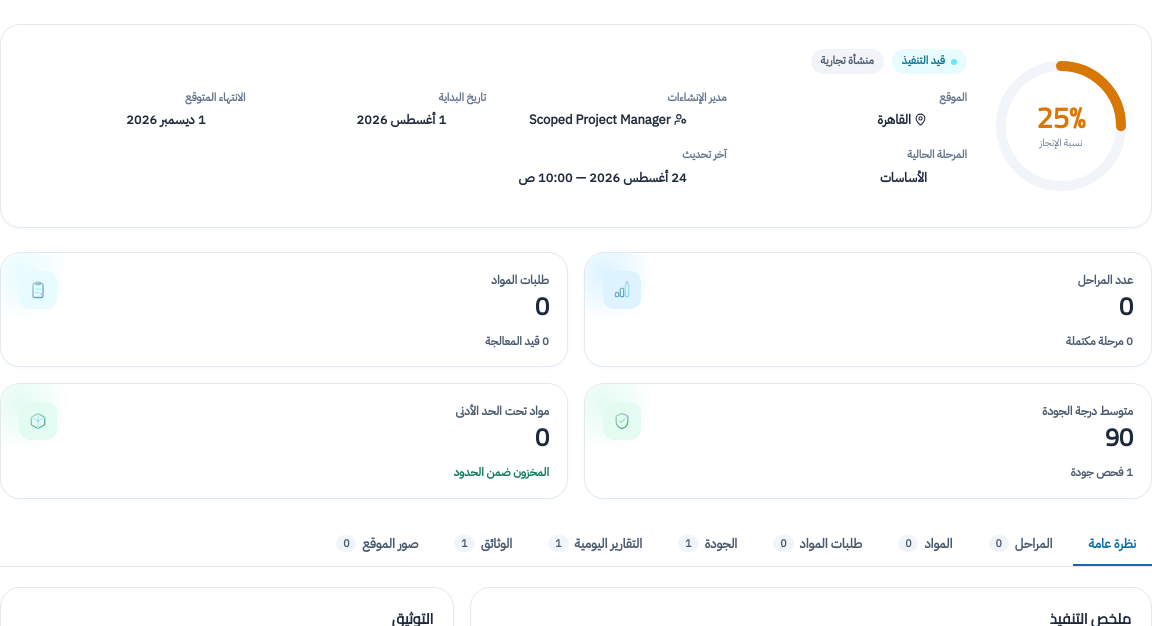
Test case: Construction Manager project detail › renders actor names delivered by scoped Construction resources
The image size is (1152, 626).
Expected: the text "Scoped Project Manager" is shown, top-left (506, 109), bottom-right (686, 131)
Click the tab "الجودة 1" at (708, 544), box top-left (662, 522), bottom-right (753, 566)
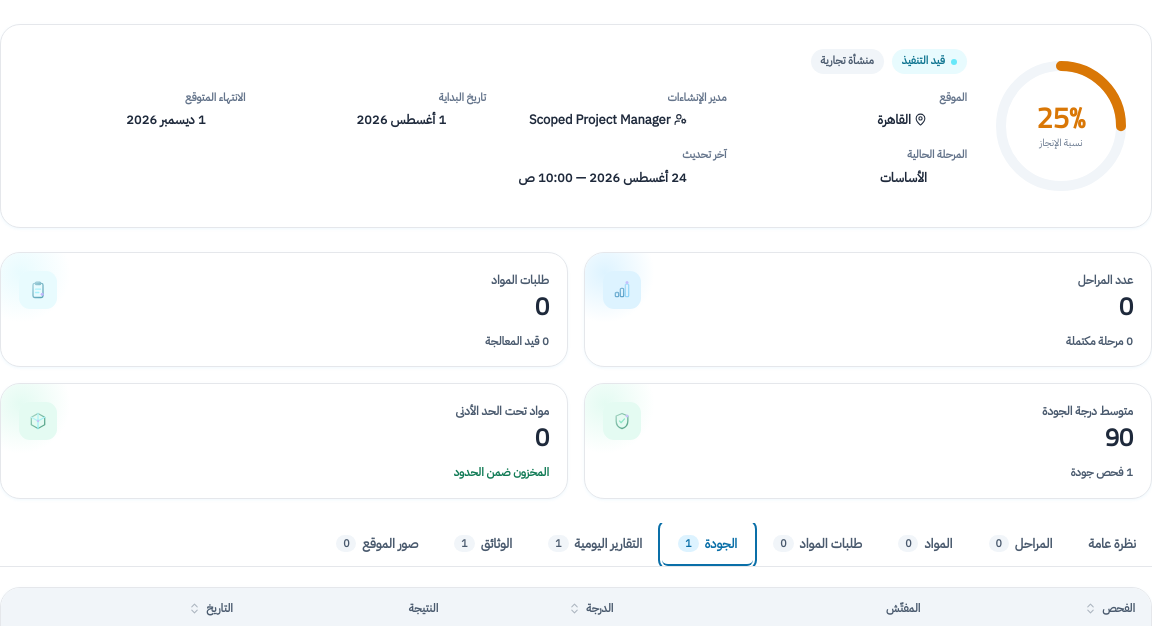
Click the tab "التقارير اليومية 1" at (595, 544), box top-left (532, 522), bottom-right (658, 566)
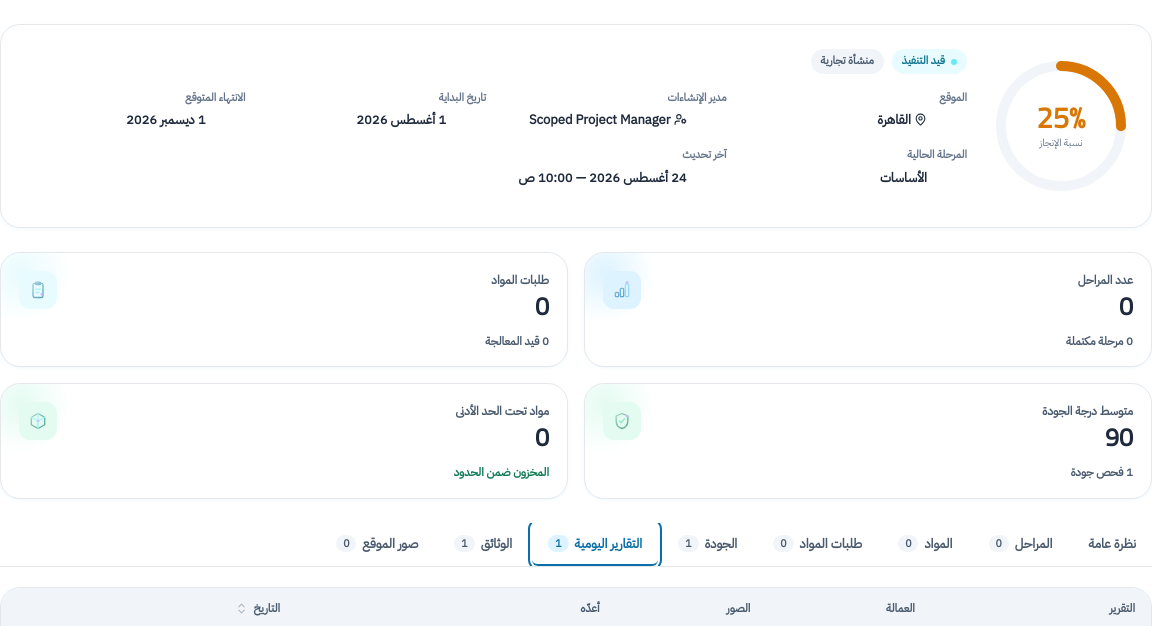
Click the tab "الوثائق 1" at (483, 544), box top-left (438, 522), bottom-right (528, 566)
(page scrolled)
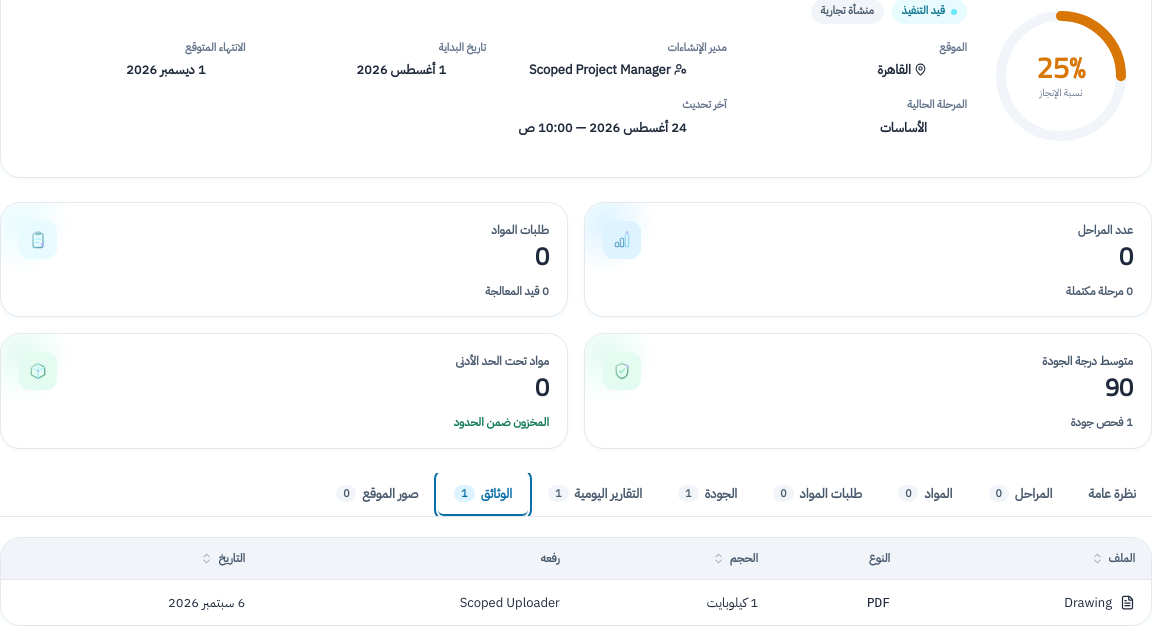
Now the text "Scoped Uploader" is shown, box top-left (261, 579), bottom-right (576, 625)
